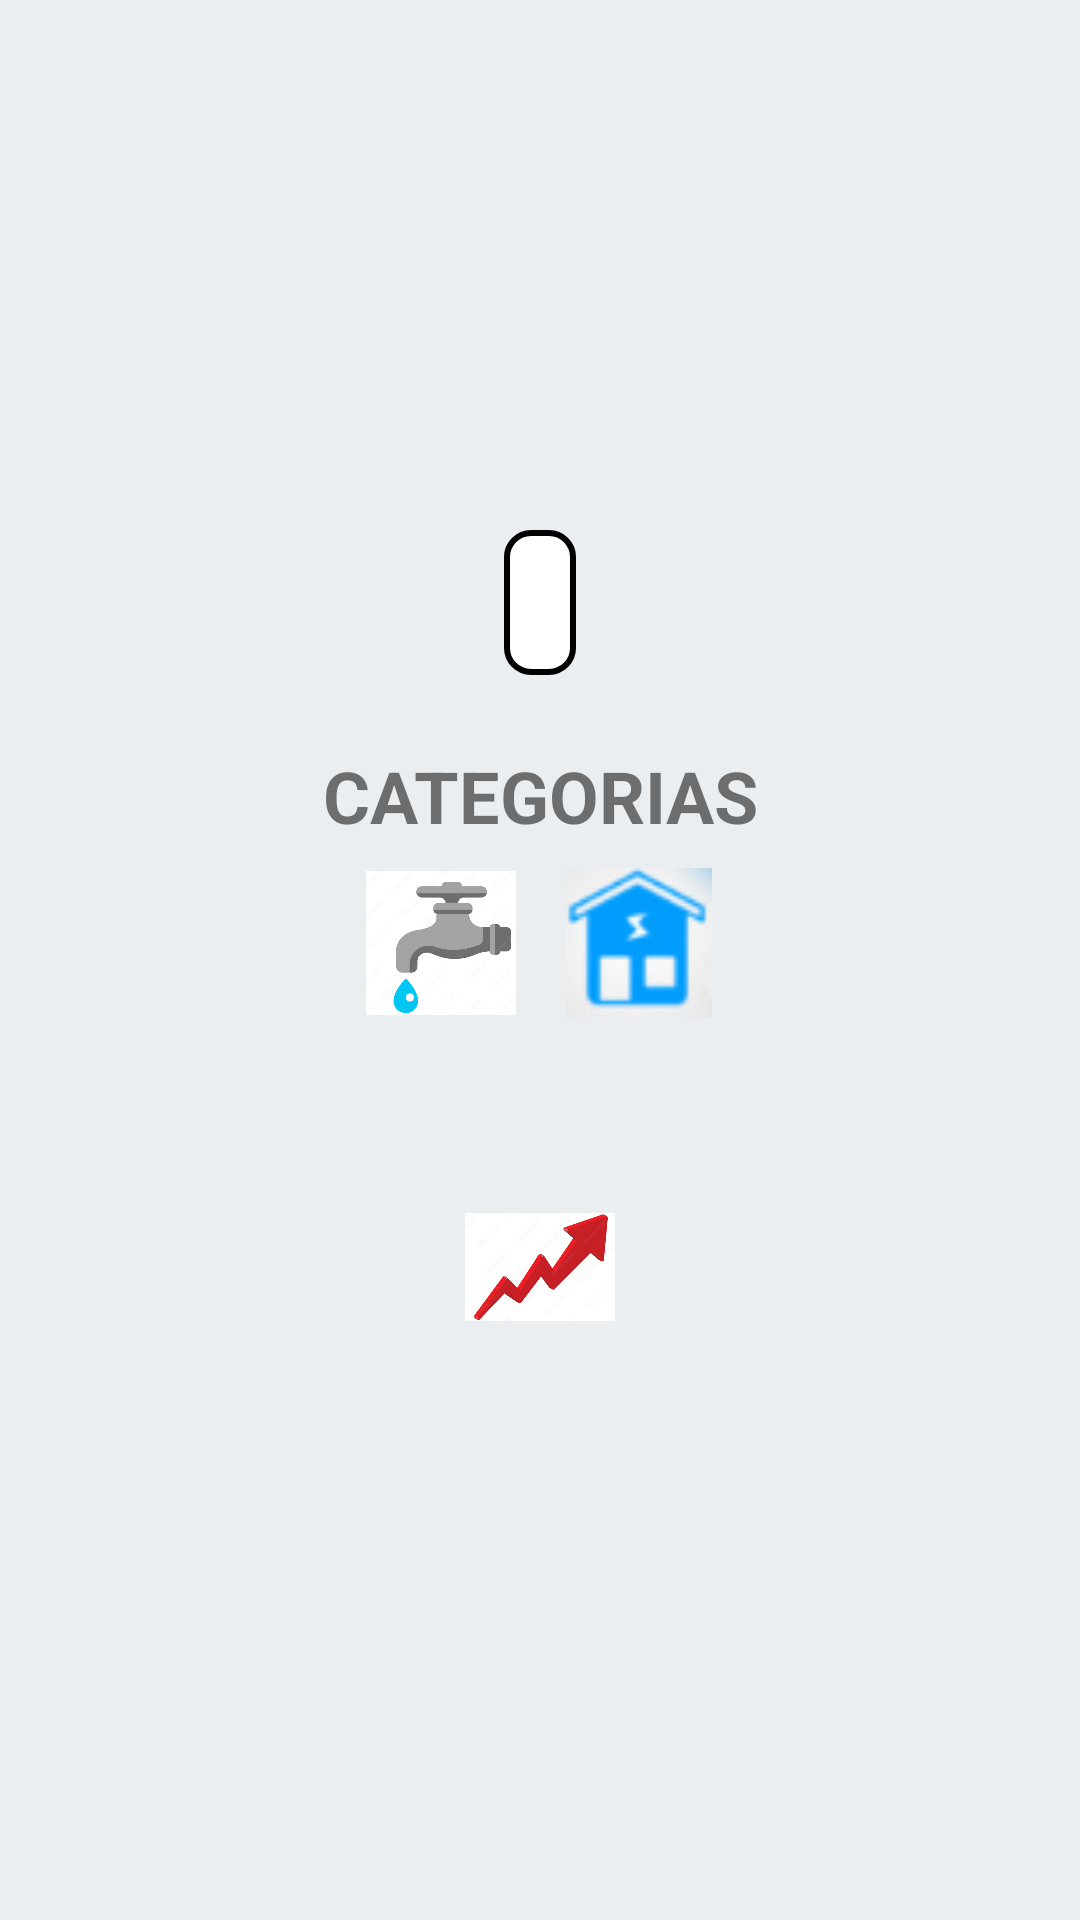

Named icons in this screenshot (1080x1920) and their bounding boxes, (x1, y1, x2, y2):
Agua: (366, 871, 516, 1015)
Electricidad: (568, 868, 712, 1008)
Estadísticas: (465, 1213, 615, 1321)
